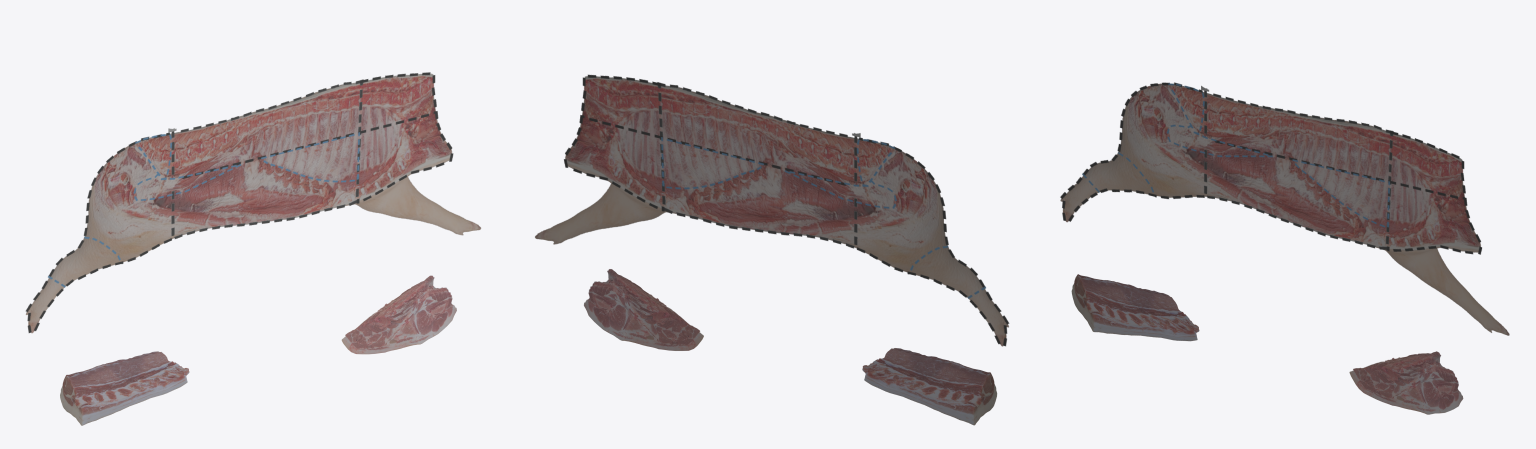
The model's file is Game_Pork.glb.
3 renders of one model, left to right at view 1: azimuth 30°, elevation 25°; view 2: azimuth 150°, elevation 25°; view 3: azimuth 330°, elevation 25°, orthographic. The views are drawn at different scales.
Parts seen in each view (by area): view 1: Pork, BonelessRack, BostonButt; view 2: Pork, BonelessRack, BostonButt; view 3: Pork, BonelessRack, BostonButt.
Part boxes in pixels (x1,y1,x2,y2): Pork: [26, 72, 481, 333]; BonelessRack: [60, 351, 189, 425]; BostonButt: [341, 275, 456, 354]; Pork: [535, 74, 1009, 346]; BonelessRack: [862, 348, 997, 425]; BostonButt: [584, 269, 703, 350]; Pork: [1060, 82, 1509, 335]; BonelessRack: [1071, 274, 1199, 341]; BostonButt: [1349, 351, 1463, 414].
Size of the model in its own units: 3.64 by 2.26 by 0.1496.
3 materials, 3 textured.
